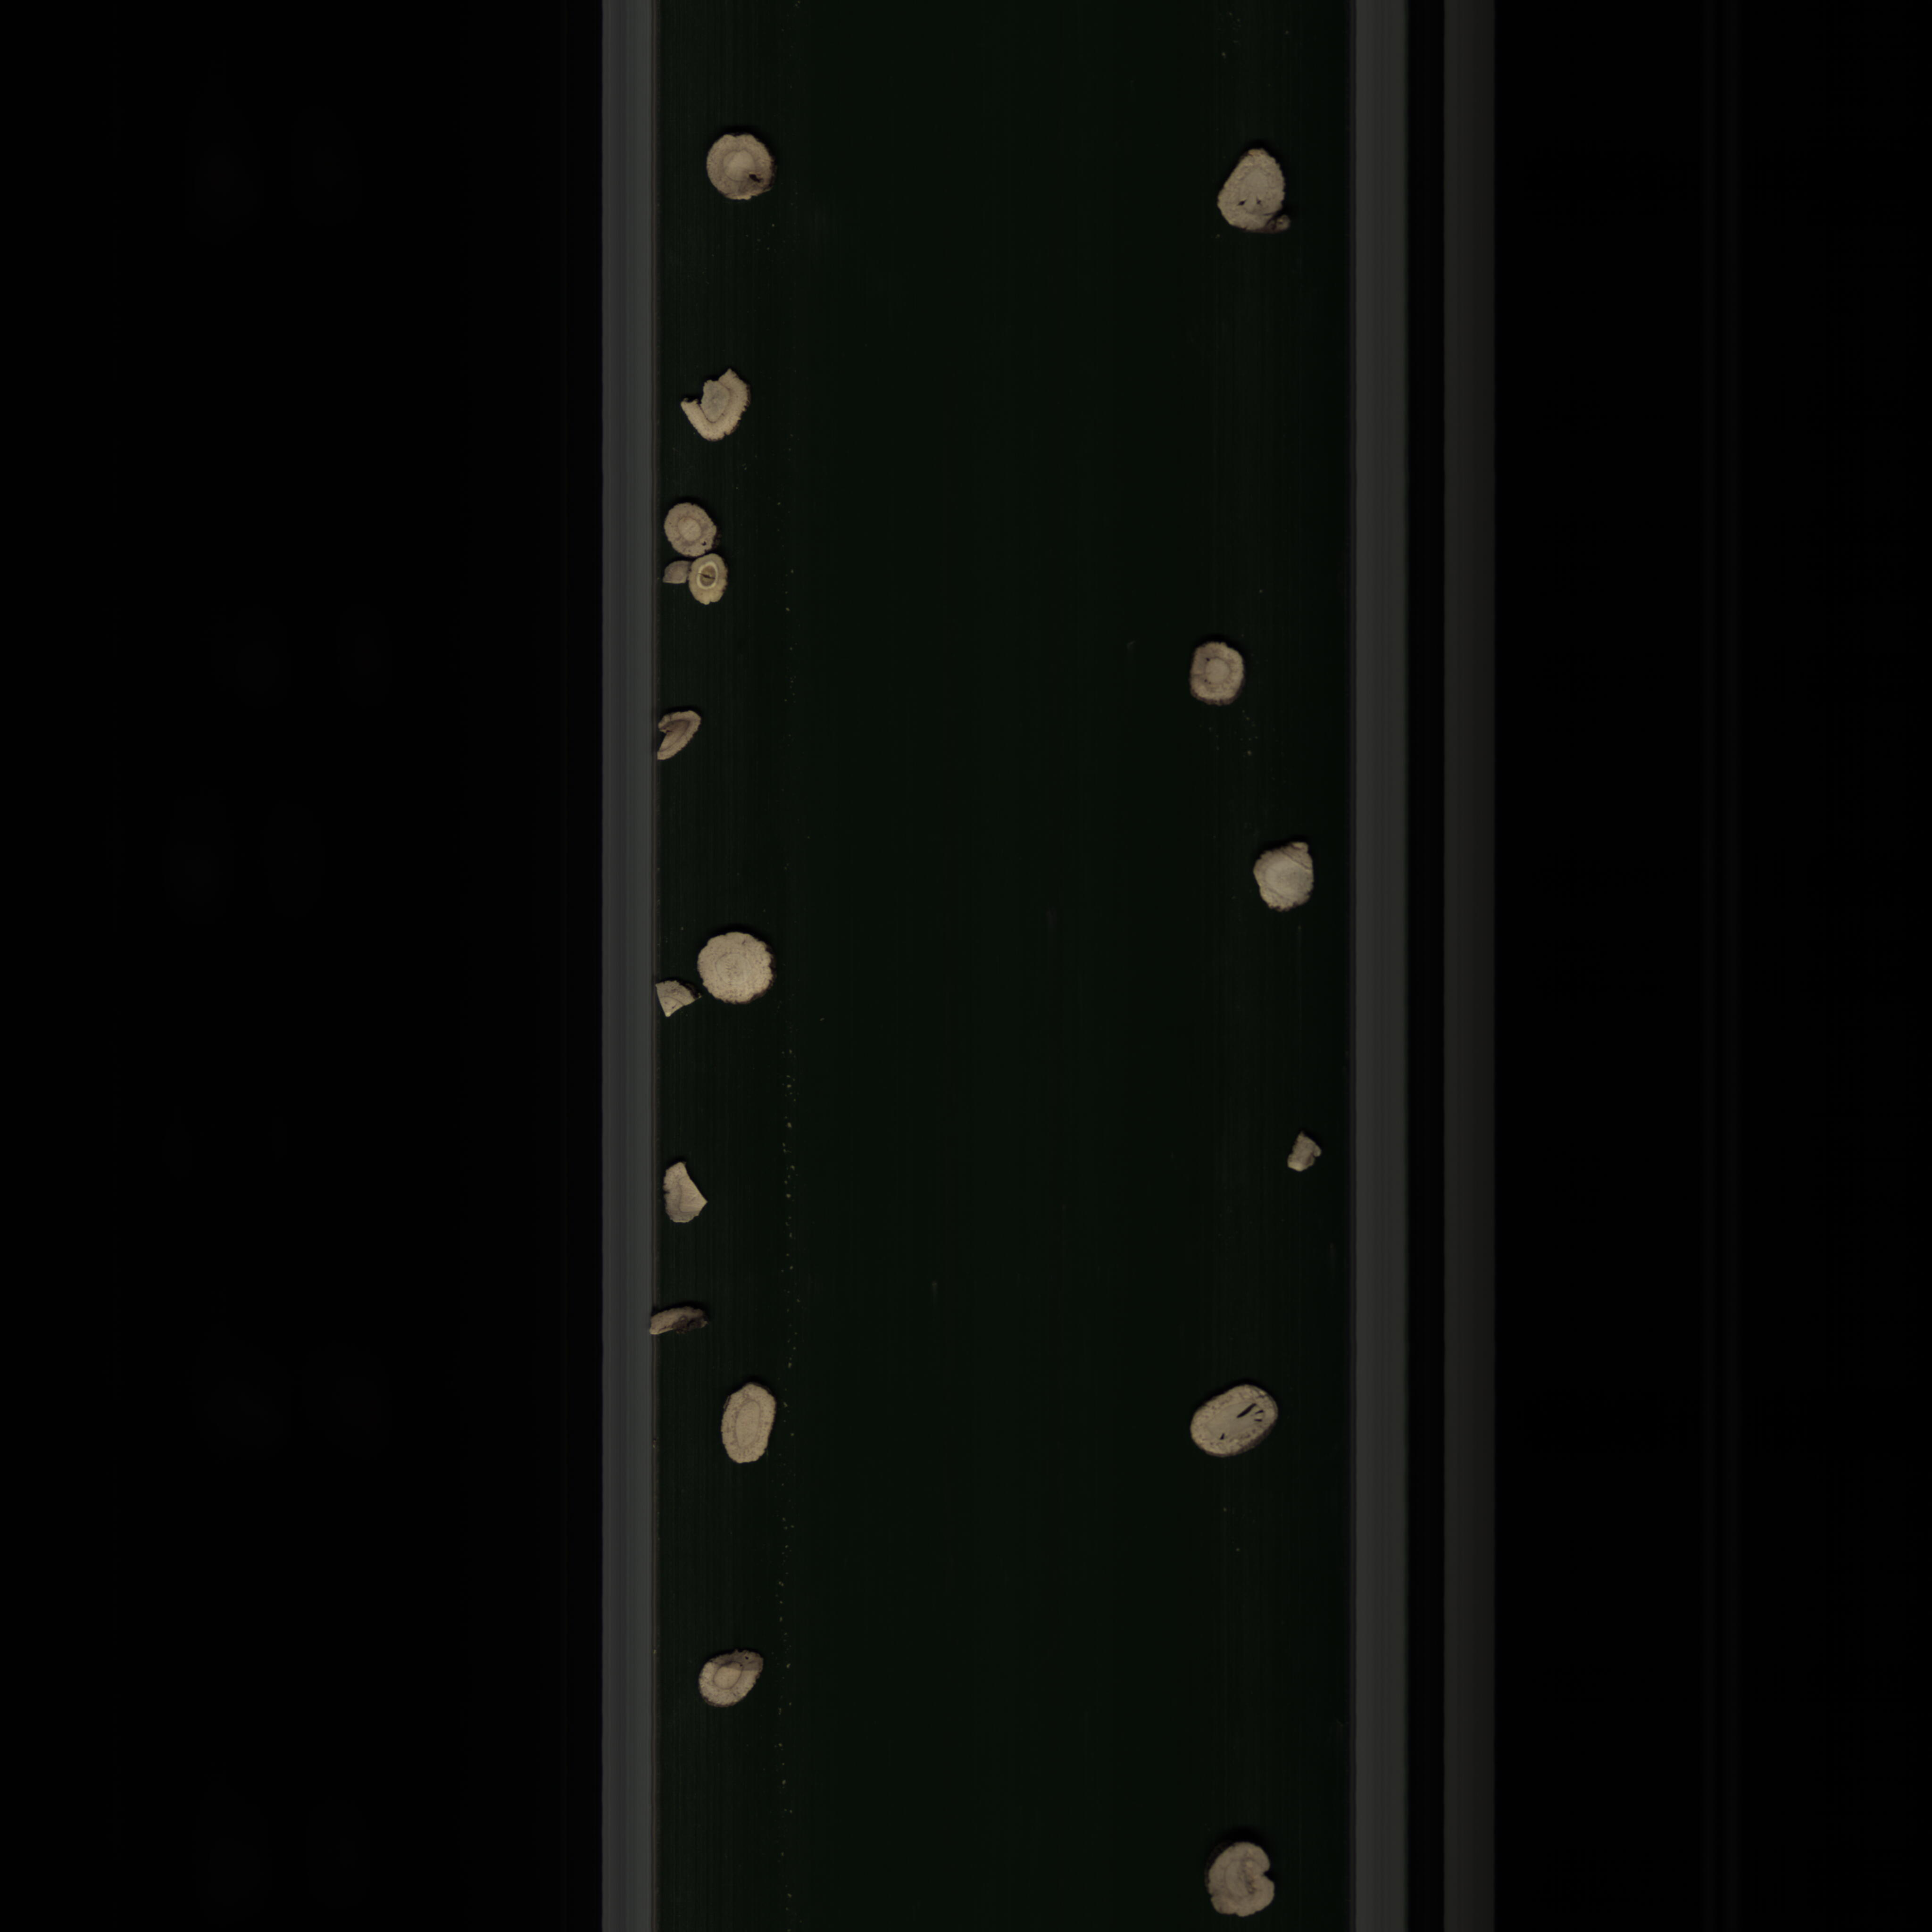bark: (646, 1304, 727, 1341)
debris: (672, 364, 755, 446), (663, 1157, 720, 1230), (1283, 1123, 1325, 1180), (649, 975, 697, 1023)
distortion: (1184, 1838, 1284, 1927)
hole: (1184, 1380, 1290, 1461), (1215, 142, 1299, 244), (1185, 642, 1249, 702)
moldy: (702, 129, 793, 209), (685, 548, 738, 617), (655, 706, 706, 764)
